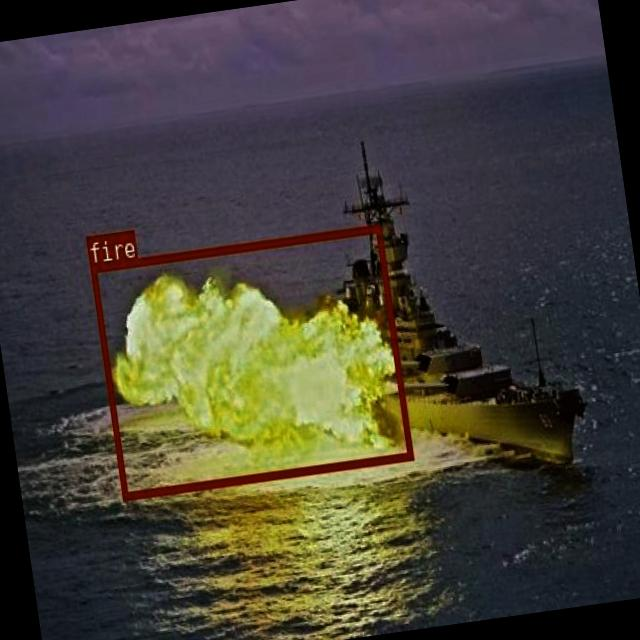fire: (90, 225, 413, 500)
